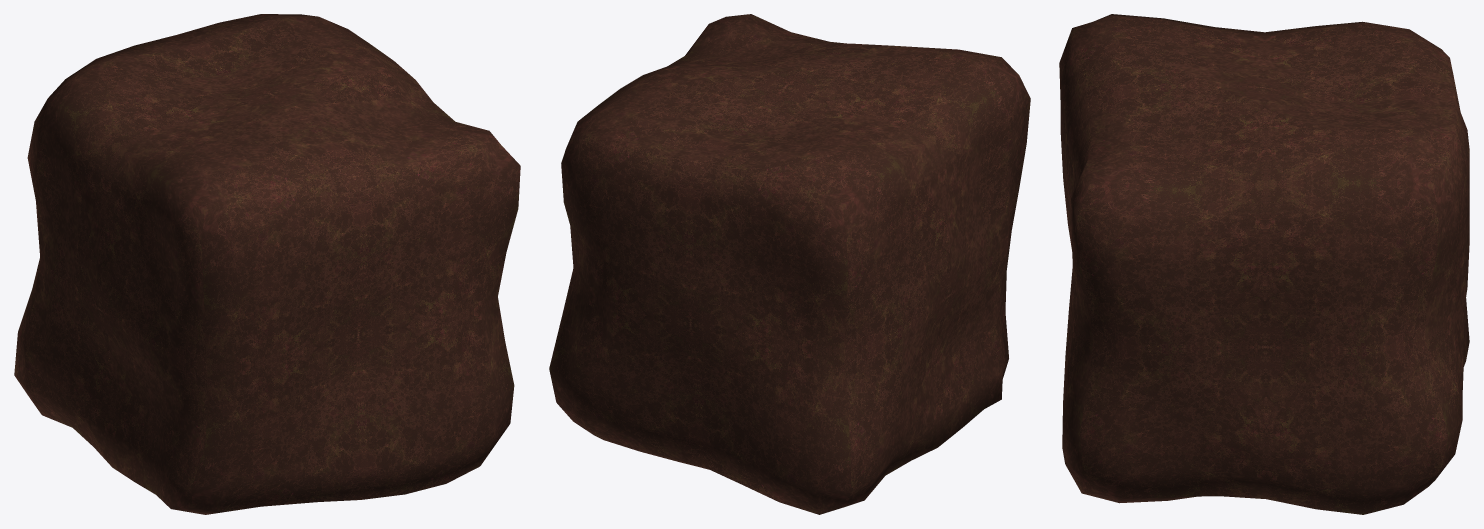
The model's file is Dirt_or_Bush_Model_Curvy.fbx.
The picture shows the model from 3 angles, left to right: view 1: azimuth 30°, elevation 25°; view 2: azimuth 150°, elevation 25°; view 3: azimuth 270°, elevation 25°; orthographic projection. The views are drawn at different scales.
Visible parts, largest first — view 1: Dirt; view 2: Dirt; view 3: Dirt.
Part boxes in pixels (<box>): Dirt: <box>14,14,520,514</box>; Dirt: <box>549,14,1030,514</box>; Dirt: <box>1059,14,1469,514</box>.
Size of the model in its own units: 11.09 by 11.12 by 11.26.
